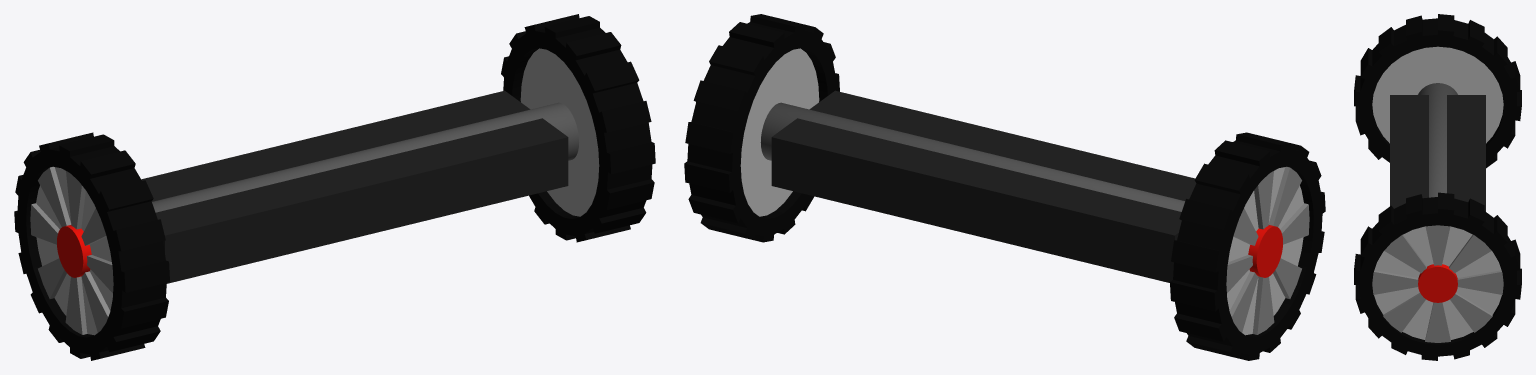
Rendered from Howard V3.fbx.
3 views of the same model, side by side, from view 1: azimuth 30°, elevation 25°; view 2: azimuth 150°, elevation 25°; view 3: azimuth 270°, elevation 25° (orthographic). The views are drawn at different scales.
Visible parts, largest first — view 1: Axel, Right Wheel.001, Right Wheel; view 2: Axel, Right Wheel.001, Right Wheel; view 3: Right Wheel, Right Wheel.001, Axel.
Boxes of the visible parts, x1=… form: Axel: x1=141, y1=90, x2=579, y2=283; Right Wheel.001: x1=14, y1=132, x2=169, y2=360; Right Wheel: x1=501, y1=14, x2=655, y2=242; Axel: x1=760, y1=90, x2=1196, y2=282; Right Wheel.001: x1=1170, y1=132, x2=1325, y2=360; Right Wheel: x1=684, y1=14, x2=839, y2=242; Right Wheel: x1=1354, y1=192, x2=1521, y2=360; Right Wheel.001: x1=1354, y1=14, x2=1521, y2=168; Axel: x1=1390, y1=83, x2=1485, y2=211.
Bounding box in the file's own units: 681 × 248 × 248.
